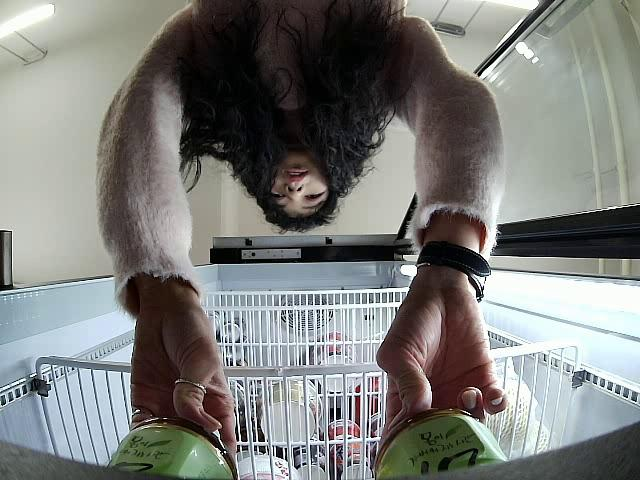00_hand: (376, 290, 509, 444), (131, 309, 237, 463)
19_17cha: (371, 404, 508, 480), (104, 417, 239, 480)
